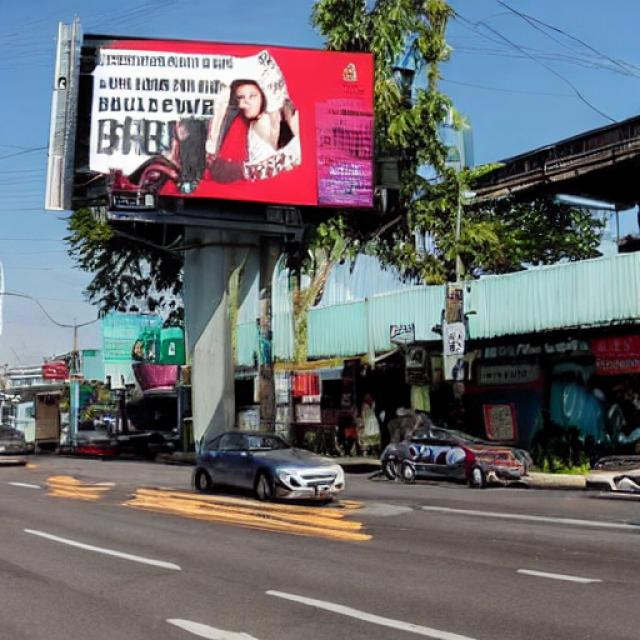Billboard: (74, 29, 378, 214)
